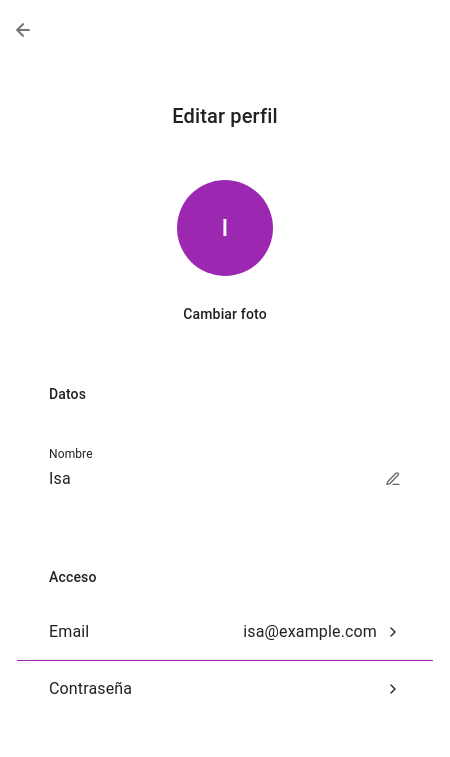
Given the edit profile screen › When the server fails › Then a general error is shown and the user stays on the screen
Type "a" into the field labelled "Nombre". click: {"x": 209, "y": 479}
box: [49,463,369,495]
(page scrolled)
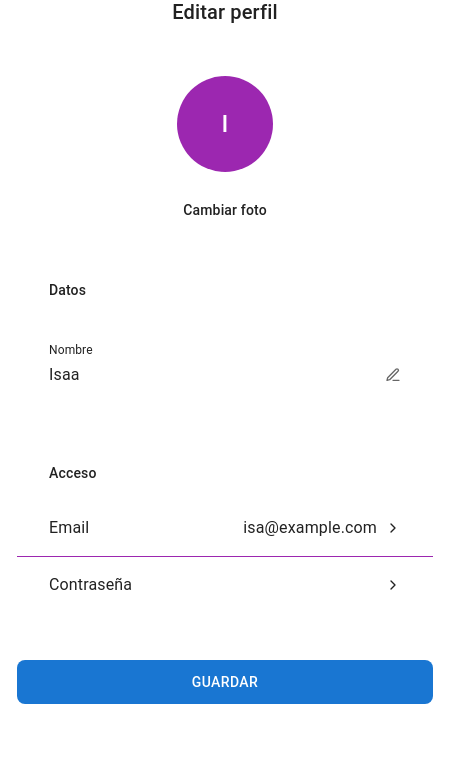
Click the button "Guardar". click: {"x": 225, "y": 682}
box: [17,660,433,704]
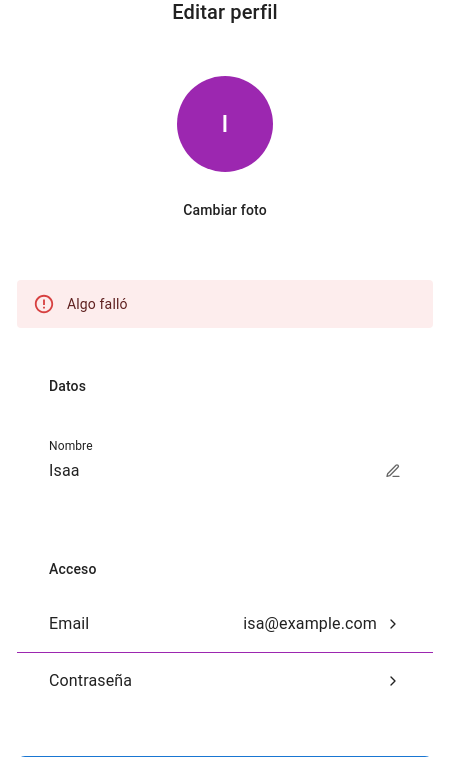
Check: the message reads "Algo falló", box [67,296,128,312]
